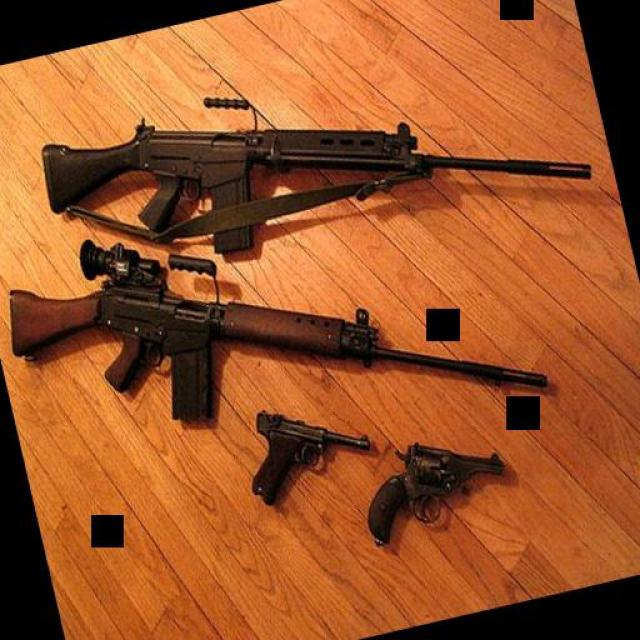gun: (343, 422, 515, 548), (232, 388, 378, 512)
